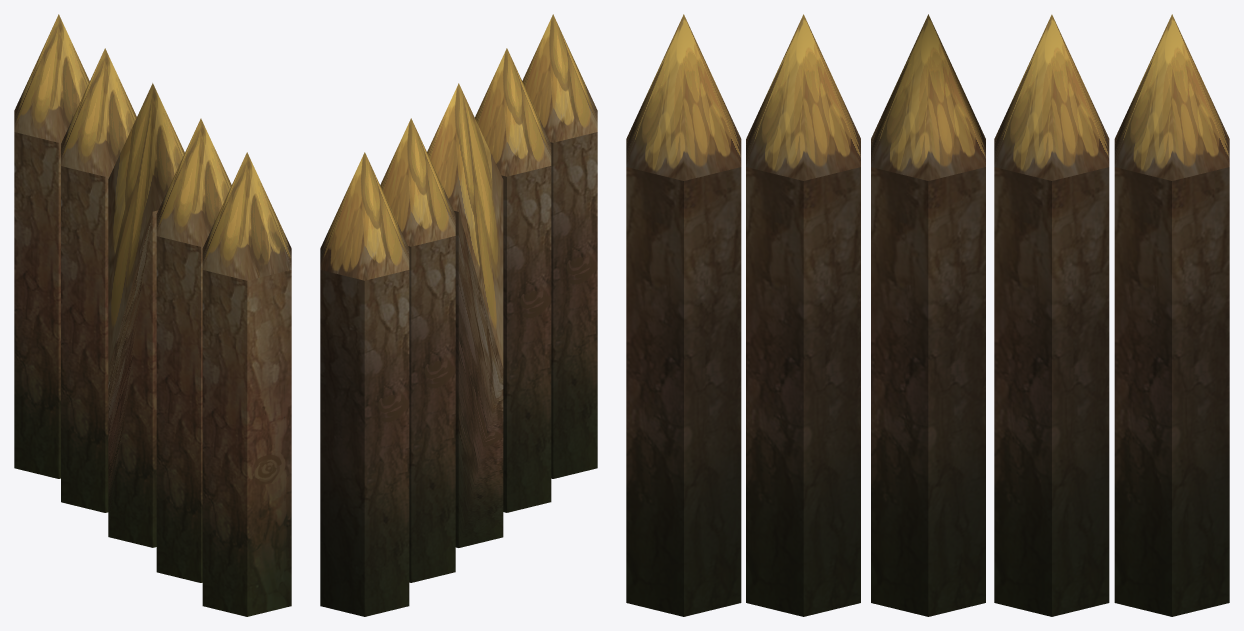
The model's file is Fence_B.fbx.
3 views of the same model, side by side, from view 1: azimuth 30°, elevation 25°; view 2: azimuth 150°, elevation 25°; view 3: azimuth 270°, elevation 25° (orthographic). The views are drawn at different scales.
Visible parts, largest first — view 1: Fence_B; view 2: Fence_B; view 3: Fence_B.
Boxes of the visible parts, x1,y1,x2,y2 form: Fence_B: (14, 14, 291, 616); Fence_B: (320, 14, 597, 616); Fence_B: (626, 14, 1229, 616).
Size of the model in its own units: 42.71 by 204 by 194.
